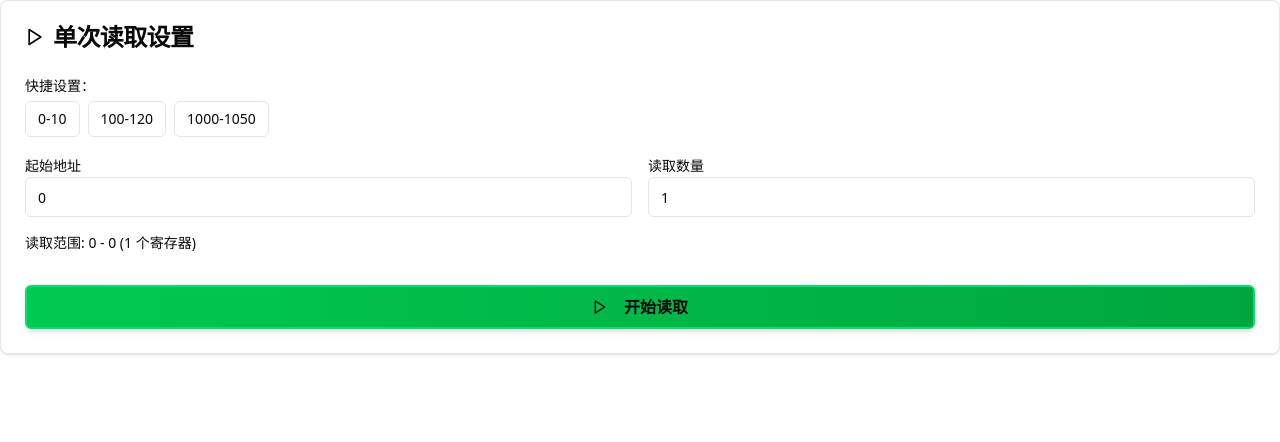
Test: SingleRead › 应该处理读取异常
Click the button "开始读取": (640, 307) [25,285,1255,329]
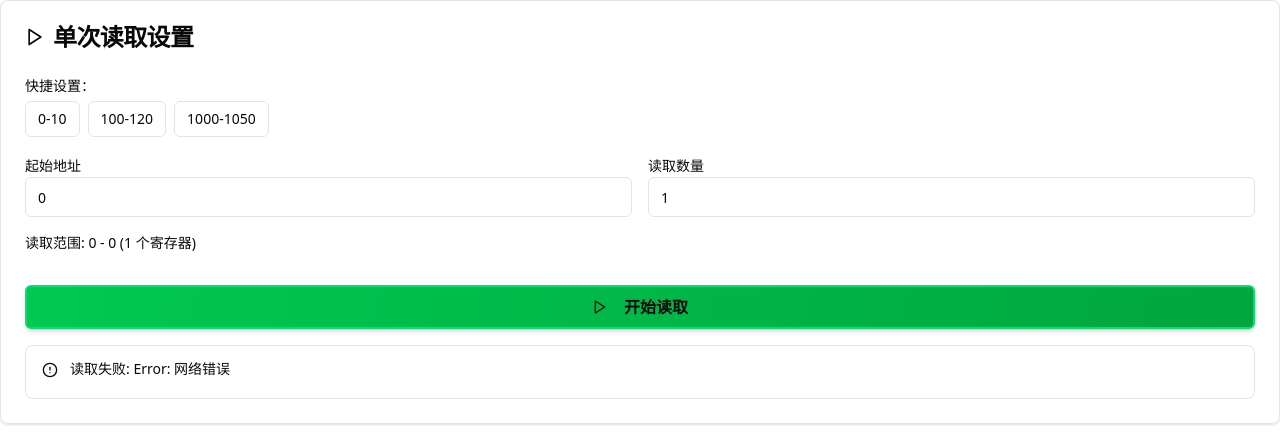
Check: the text "读取失败: Error: 网络错误" is shown, box [70,359,230,378]
